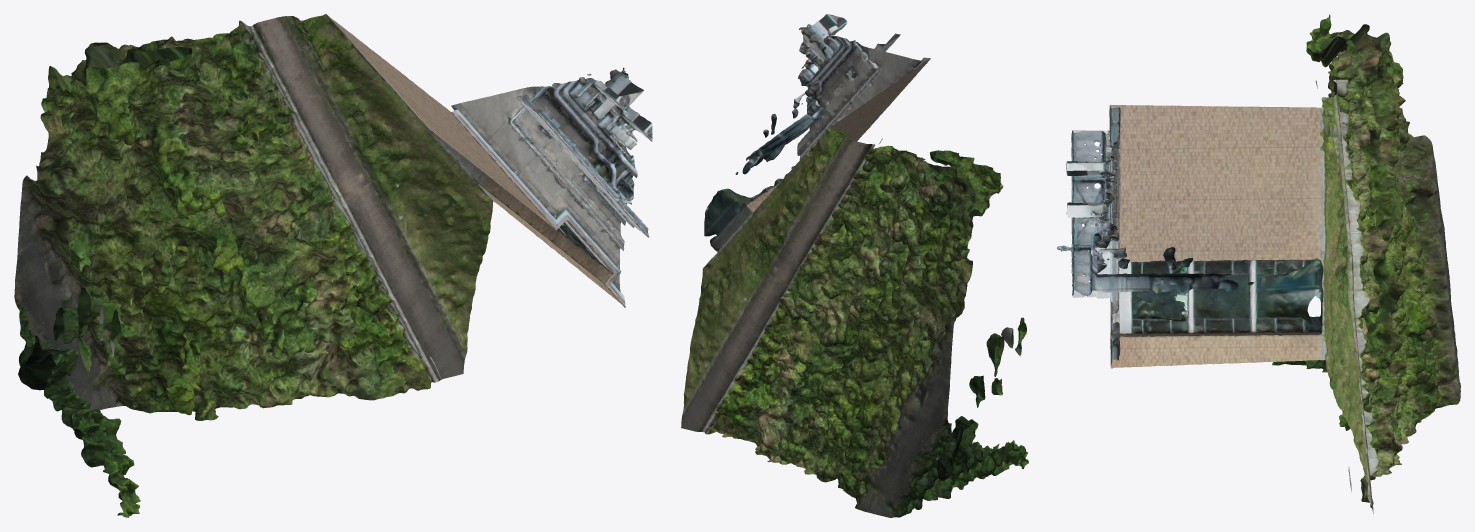
Rendered from Tile_+006_+007.fbx.
3 renders of one model, left to right at view 1: azimuth 30°, elevation 25°; view 2: azimuth 150°, elevation 25°; view 3: azimuth 270°, elevation 25°, orthographic. The views are drawn at different scales.
Parts seen in each view (by area): view 1: DefaultName; view 2: DefaultName; view 3: DefaultName.
Boxes of the visible parts, x1=… form: DefaultName: x1=14, y1=14, x2=652, y2=517; DefaultName: x1=681, y1=14, x2=1028, y2=517; DefaultName: x1=1057, y1=14, x2=1460, y2=513.
Bounding box in the file's own units: 22.54 × 22.54 × 24.
